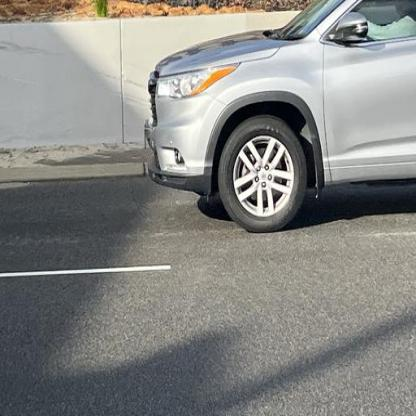Tire: (218, 116, 308, 233)
